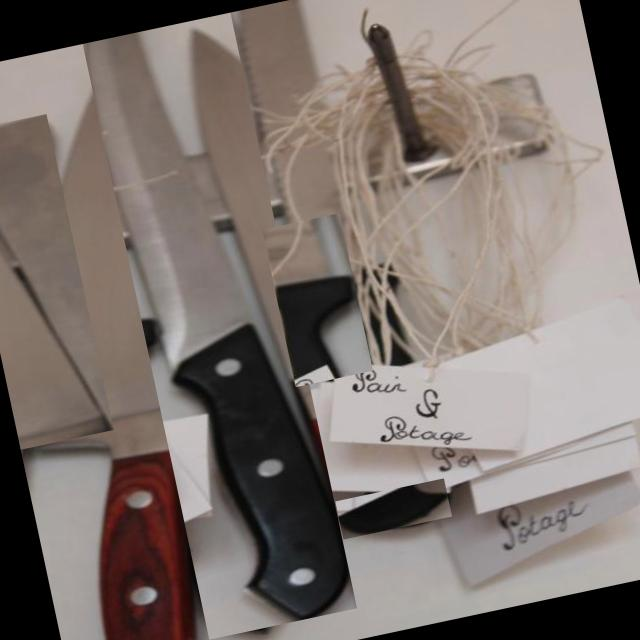Knife: (87, 34, 347, 620), (25, 47, 193, 640), (0, 113, 112, 430), (276, 220, 355, 378), (239, 0, 317, 117), (289, 146, 343, 244), (340, 484, 447, 533)
